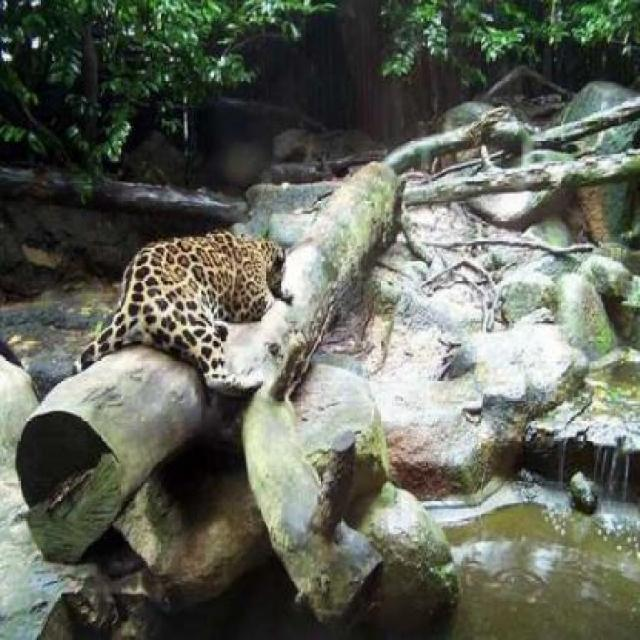Leopard: (99, 215, 332, 388)
